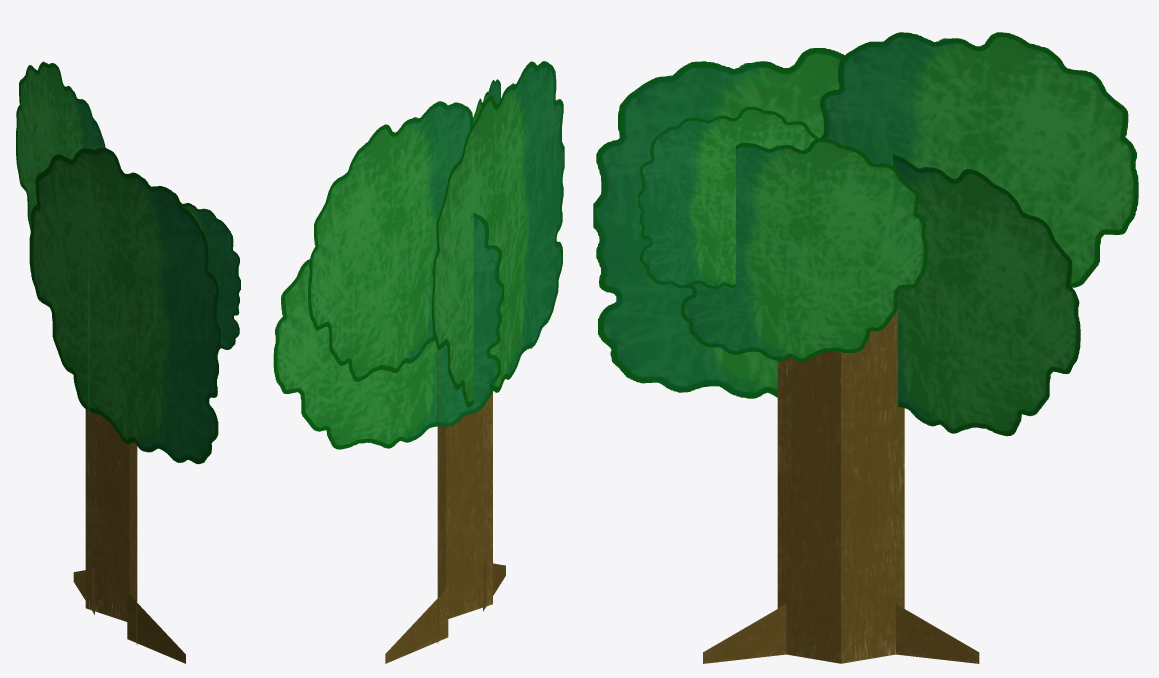
File: temp_tree.fbx
3 renders of one model, left to right at view 1: azimuth 30°, elevation 25°; view 2: azimuth 150°, elevation 25°; view 3: azimuth 270°, elevation 25°, orthographic. The views are drawn at different scales.
Parts seen in each view (by area): view 1: Plane; view 2: Plane; view 3: Plane.
Boxes of the visible parts, bbox=[...] form: Plane: bbox=[16, 61, 240, 663]; Plane: bbox=[273, 61, 564, 663]; Plane: bbox=[593, 32, 1138, 663].
Size of the model in its own units: 126 by 550 by 433.
